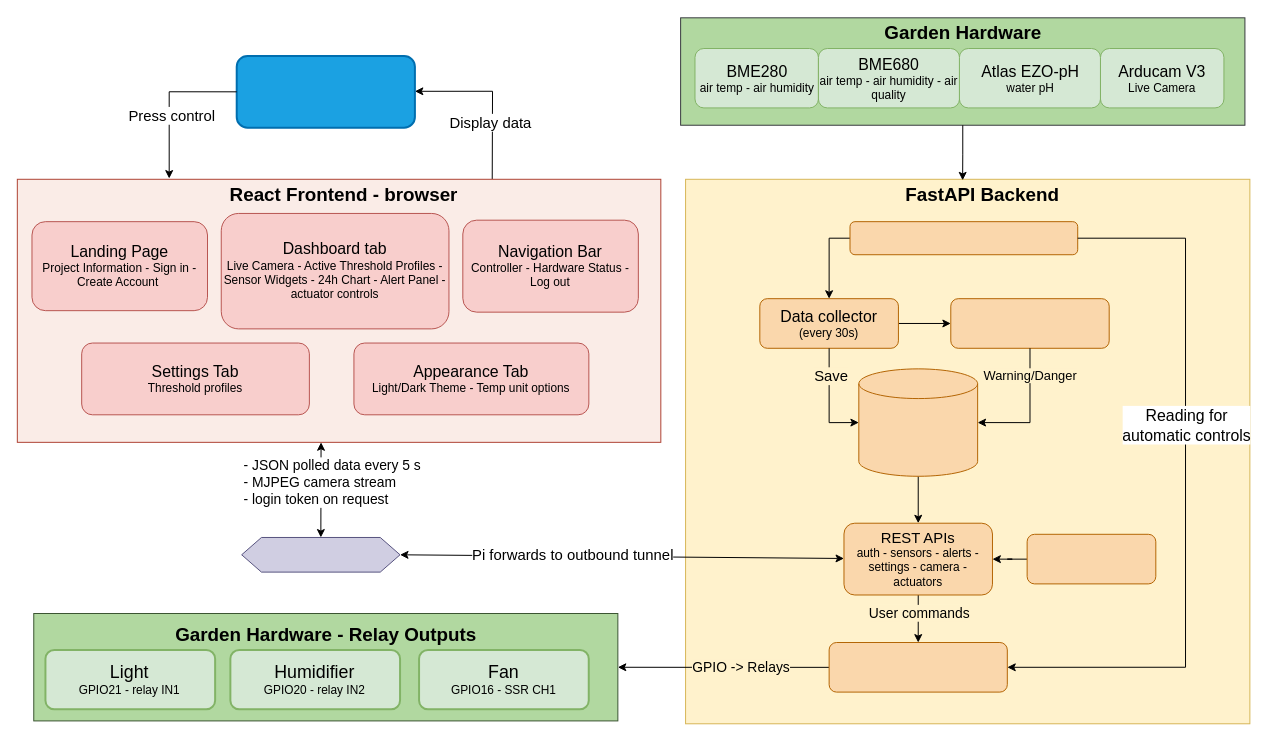
Some shapes in this 1267 by 742 pixel diagram are drawn without their labels. The shapes that lost their labels are listed below. From the top down, each one's box as (x1, y1, x2, y2) in pixels, then its label:
(235, 54, 415, 128): User Read dashboard data - interact with frontend + actuator control
(849, 221, 1078, 255): Sensor Factory (using mock data if sensors are missing)
(950, 298, 1109, 348): Alert Evaluator
(858, 368, 978, 476): SQLite readings - users - sessions - settings - alerts
(241, 536, 400, 572): ngrok tunnels HTTPS
(1026, 533, 1156, 584): Live Camera Manager Picamera2 - MJPEG
(828, 642, 1007, 692): Actuator Manager manual on/off - light schedule - automatic fan + humidifier
